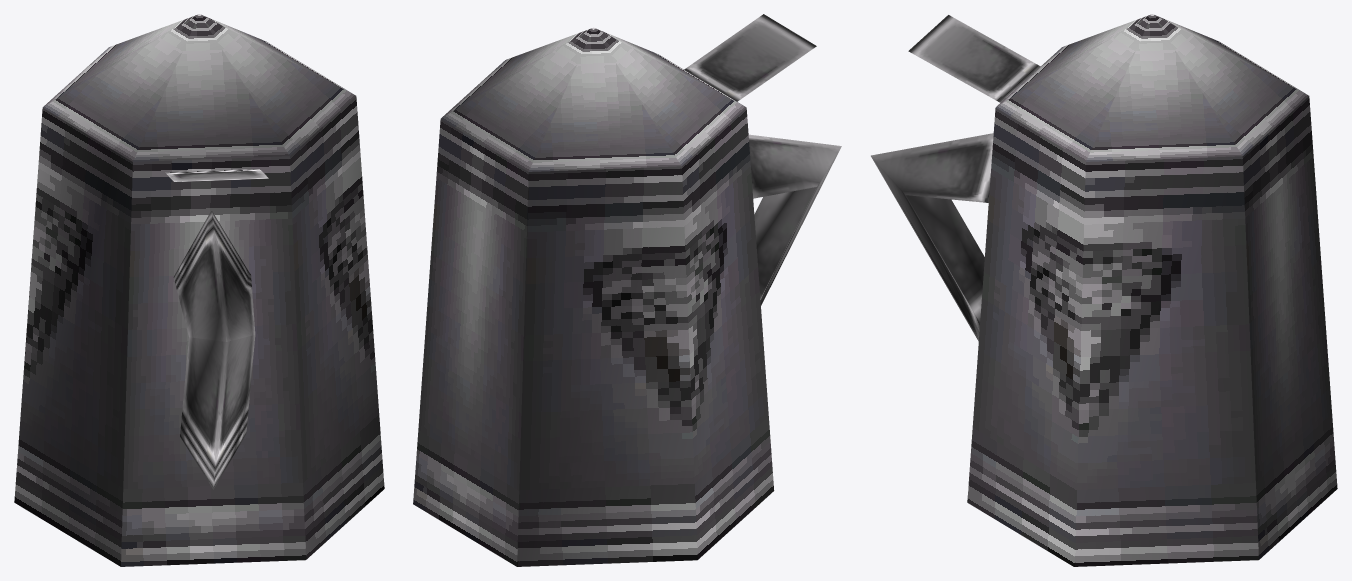
The model's file is stein.obj.
The picture shows the model from 3 angles, left to right: view 1: azimuth 30°, elevation 25°; view 2: azimuth 150°, elevation 25°; view 3: azimuth 270°, elevation 25°; orthographic projection. The views are drawn at different scales.
Parts seen in each view (by area): view 1: stein2, stein1, stein0; view 2: stein1, stein2, stein0; view 3: stein1, stein2, stein0.
Boxes of the visible parts, box(x1,y1,x2,y2) form: stein2: box(43, 14, 355, 566); stein1: box(14, 96, 384, 566); stein0: box(165, 169, 268, 489); stein1: box(517, 108, 774, 566); stein2: box(413, 27, 746, 566); stein0: box(684, 14, 841, 305); stein1: box(967, 108, 1258, 566); stein2: box(996, 14, 1337, 559); stein0: box(871, 15, 1040, 341).
Bounding box in the file's own units: 0.1996 × 0.315 × 0.2768.
Materials: 3 (3 with a texture image).
